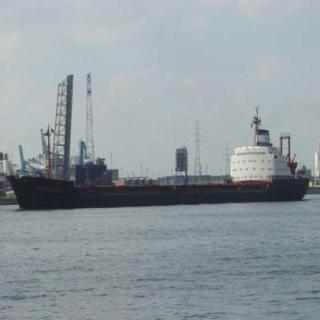Bulk Carrier: (0, 101, 314, 206)
